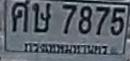5: (110, 7, 124, 35)
7: (95, 6, 109, 34), (62, 4, 76, 32)
8: (78, 5, 91, 33)
A38: (11, 0, 30, 33)
A39: (32, 2, 51, 33)
BKK: (20, 39, 110, 56)
